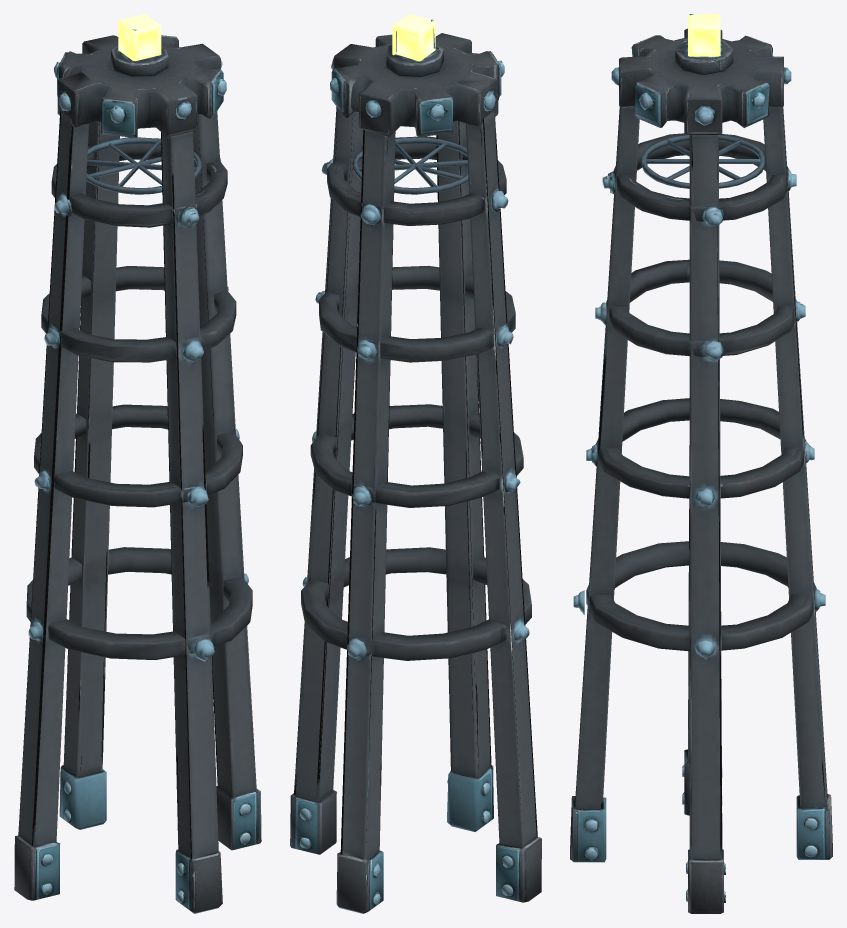
Rendered from derrick.glb.
3 renders of one model, left to right at view 1: azimuth 30°, elevation 25°; view 2: azimuth 150°, elevation 25°; view 3: azimuth 270°, elevation 25°, orthographic.
Parts seen in each view (by area): view 1: derrick; view 2: derrick; view 3: derrick.
Boxes of the visible parts, left/top/right/bottom form: derrick: left=14, top=14, right=261, bottom=913; derrick: left=290, top=14, right=541, bottom=913; derrick: left=570, top=14, right=832, bottom=913.
Bounding box in the file's own units: 0.6054 × 2.08 × 0.5891.
Materials: 2 (1 with a texture image).
